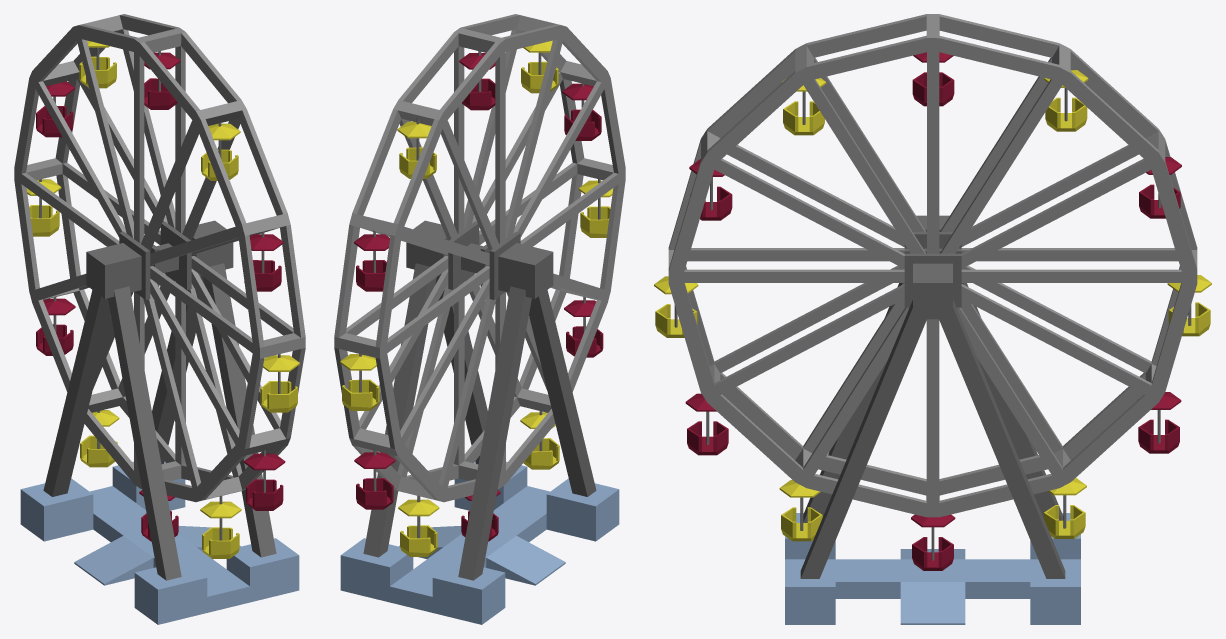
The model's file is FerrisWheel.fbx.
3 views of the same model, side by side, from view 1: azimuth 30°, elevation 25°; view 2: azimuth 150°, elevation 25°; view 3: azimuth 270°, elevation 25° (orthographic). The views are drawn at different scales.
Parts seen in each view (by area): view 1: FerrisWheel; view 2: FerrisWheel; view 3: FerrisWheel.
Part boxes in pixels (box(x1,y1,x2,y2)): FerrisWheel: box(14, 14, 305, 624); FerrisWheel: box(334, 14, 625, 624); FerrisWheel: box(654, 14, 1211, 624).
Bounding box in the file's own units: 924 × 3261 × 2934.
